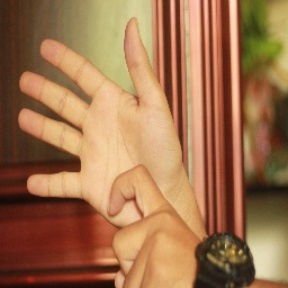R: (18, 16, 198, 288)
